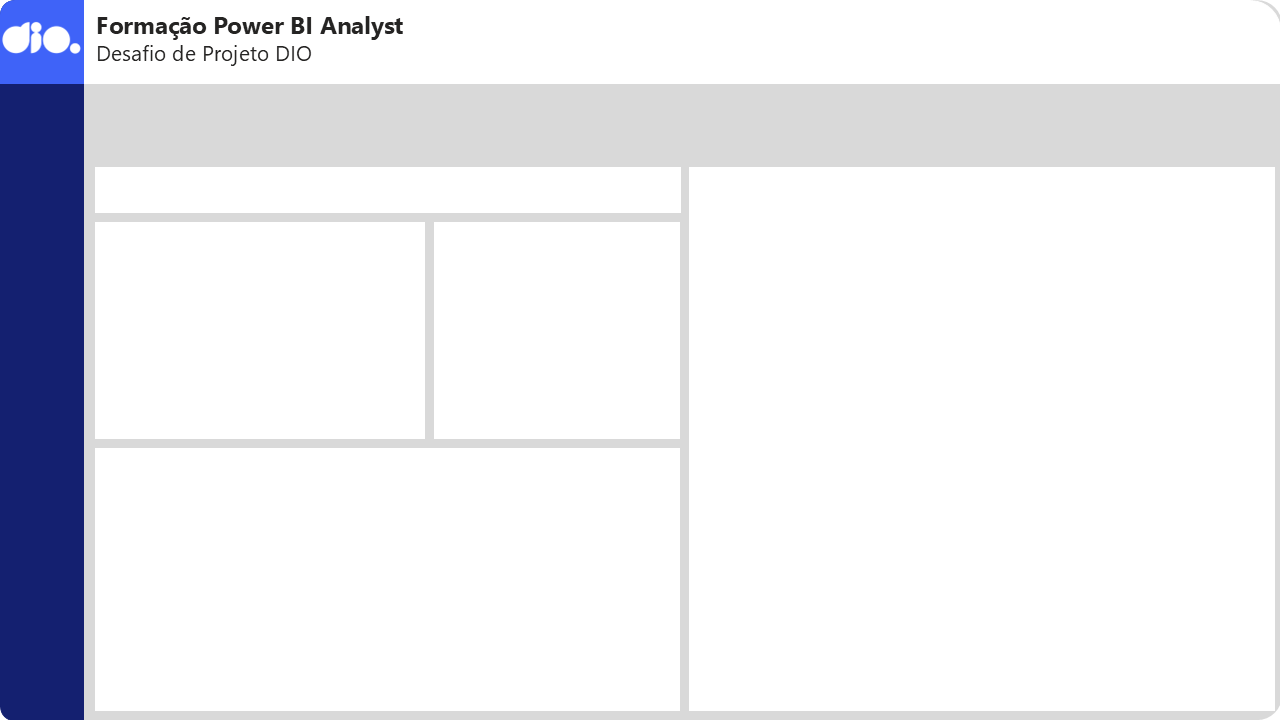

This screenshot's page, from the dashboard's own definition file:
{"tool":"powerbi","page":{"name":"Profit","canvas":[1280,720],"ordinal":1},"visuals":[{"type":"shape","box":[83.9,127.8,473,37.1],"z":0,"group":"g1"},{"type":"group","id":"g1","title":"Lucro Detalhado","box":[83.9,97.6,473,67.4],"z":0},{"type":"textbox","box":[85.3,97.6,470.2,52.2],"z":1000,"group":"g1"},{"type":"ChicletSlicer1448559807354","fields":{"Category":["financials.Date.Variation.Hierarquia de datas.Ano"]},"box":[86.8,165.1,589.4,45.2],"z":1000},{"type":"decompositionTreeVisual","fields":{"Analyze":["Sum(financials.Profit)"],"ExplainBy":["financials.Date.Variation.Hierarquia de datas.Ano","financials.Country"]},"box":[694.3,165.7,574.3,534.3],"z":2000},{"type":"RadarChart1446119667547","title":"Lucro por Produto","fields":{"Y":["Sum(financials.Profit)"],"Category":["financials.Product"]},"box":[96.9,222.1,327.6,214.7],"z":3000},{"type":"treemap","title":"Lucro por Segmento","fields":{"Values":["Sum(financials.Profit)"],"Group":["financials.Segment"]},"box":[436.8,223.3,239.3,214.7],"z":4000},{"type":"actionButton","box":[13.5,660.3,45.2,40.4],"z":5000},{"type":"waterfallChart","title":"Lucro por Trimetre","fields":{"Y":["Sum(financials.Profit)"],"Category":["financials.Date.Variation.Hierarquia de datas.Trimestre"]},"box":[96.9,452.8,579.1,247.9],"z":6000},{"type":"shape","box":[12.5,543.5,61.7,80],"z":7000},{"type":"image","box":[12.8,551.7,62.6,62.6],"z":8000},{"type":"image","box":[1182.8,9.1,80.6,54.6],"z":9000}]}

Visuals, with their boxes on the page's 1280x720 design canvas (x1, y1, x2, y2). These are canvas units, not pixel positions in the 1280x720 screenshot, which may show the page scaled, cropped or inside an application window:
shape: [x1=84, y1=128, x2=557, y2=165]
"Lucro Detalhado" group: [x1=84, y1=98, x2=557, y2=165]
textbox: [x1=85, y1=98, x2=556, y2=150]
ChicletSlicer1448559807354 - financials.Date.Variation.Hierarquia de datas.Ano: [x1=87, y1=165, x2=676, y2=210]
decompositionTreeVisual - Sum(financials.Profit) x financials.Date.Variation.Hierarquia de datas.Ano: [x1=694, y1=166, x2=1269, y2=700]
"Lucro por Produto" RadarChart1446119667547: [x1=97, y1=222, x2=424, y2=437]
"Lucro por Segmento" treemap: [x1=437, y1=223, x2=676, y2=438]
actionButton: [x1=14, y1=660, x2=59, y2=701]
"Lucro por Trimetre" waterfallChart: [x1=97, y1=453, x2=676, y2=701]
shape: [x1=12, y1=544, x2=74, y2=624]
image: [x1=13, y1=552, x2=75, y2=614]
image: [x1=1183, y1=9, x2=1263, y2=64]
